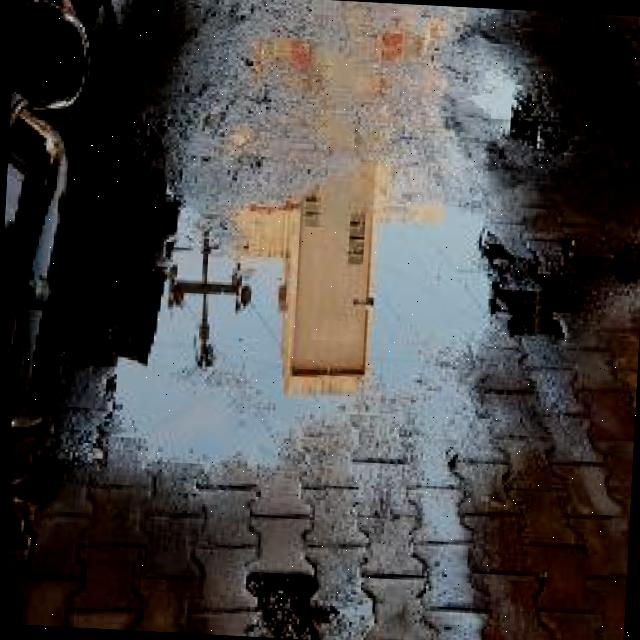stagnation: (78, 112, 640, 489)
